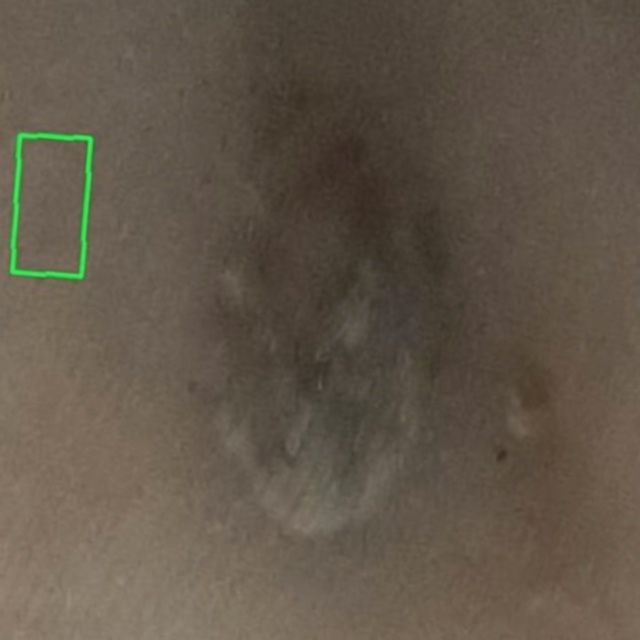Eczema: (11, 133, 89, 275)
